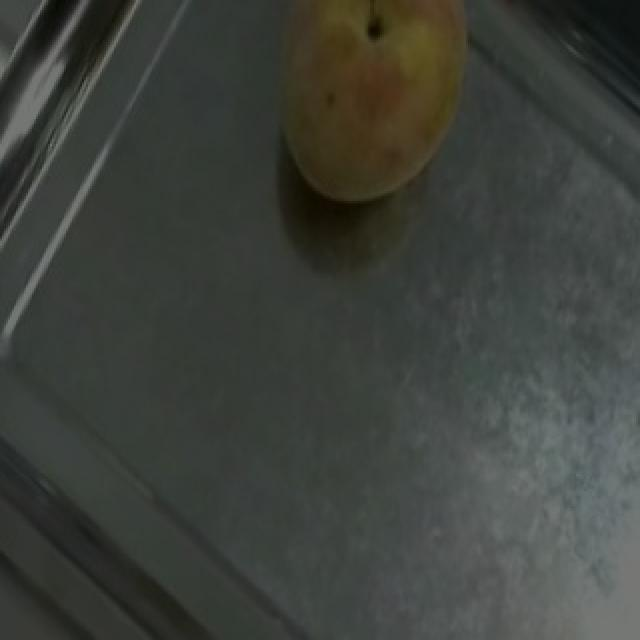Fruit: (228, 0, 484, 231)
